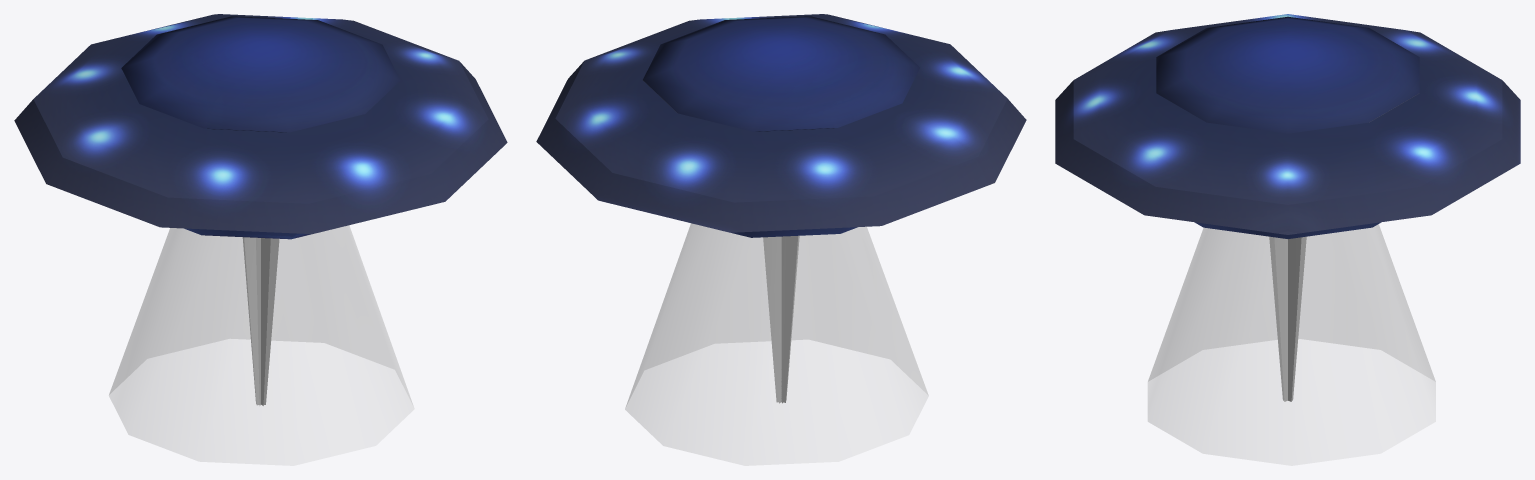
Rendered from UFO2.fbx.
The picture shows the model from 3 angles, left to right: view 1: azimuth 30°, elevation 25°; view 2: azimuth 150°, elevation 25°; view 3: azimuth 270°, elevation 25°; orthographic projection.
Parts seen in each view (by area): view 1: UFO, outsidebeam, InsideBeam; view 2: UFO, outsidebeam, InsideBeam; view 3: UFO, outsidebeam, InsideBeam.
Boxes of the visible parts, box(x1,y1,x2,y2) form: UFO: box(14, 14, 507, 239); outsidebeam: box(109, 225, 413, 465); InsideBeam: box(242, 237, 279, 405); UFO: box(536, 14, 1026, 237); outsidebeam: box(625, 223, 928, 465); InsideBeam: box(763, 235, 799, 403); UFO: box(1055, 14, 1520, 238); outsidebeam: box(1148, 224, 1435, 465); InsideBeam: box(1269, 236, 1306, 401).
Bounding box in the file's own units: 64.02 × 51 × 60.89.
